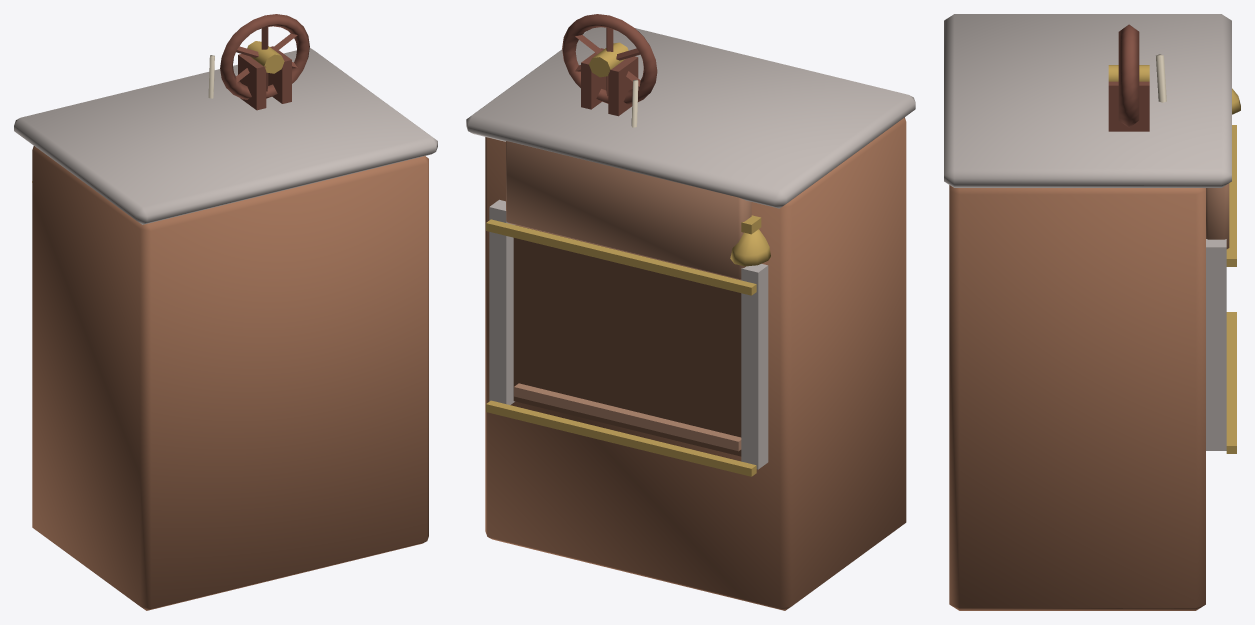
The model's file is dumbwaiter.glb.
3 renders of one model, left to right at view 1: azimuth 30°, elevation 25°; view 2: azimuth 150°, elevation 25°; view 3: azimuth 270°, elevation 25°, orthographic. The views are drawn at different scales.
Visible parts, largest first — view 1: dumbwaiter; view 2: dumbwaiter; view 3: dumbwaiter.
Part boxes in pixels (x1,y1,x2,y2): dumbwaiter: (14, 14, 437, 610); dumbwaiter: (466, 14, 915, 610); dumbwaiter: (944, 14, 1240, 610).
Size of what is drawn, in the model's own units: 0.9 by 1.4 by 0.7.
